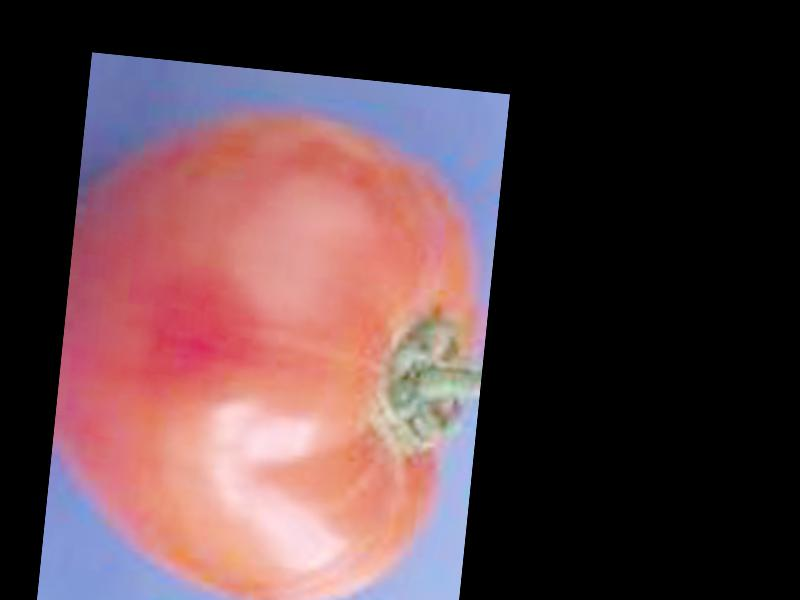Tomato: (41, 91, 502, 600)
